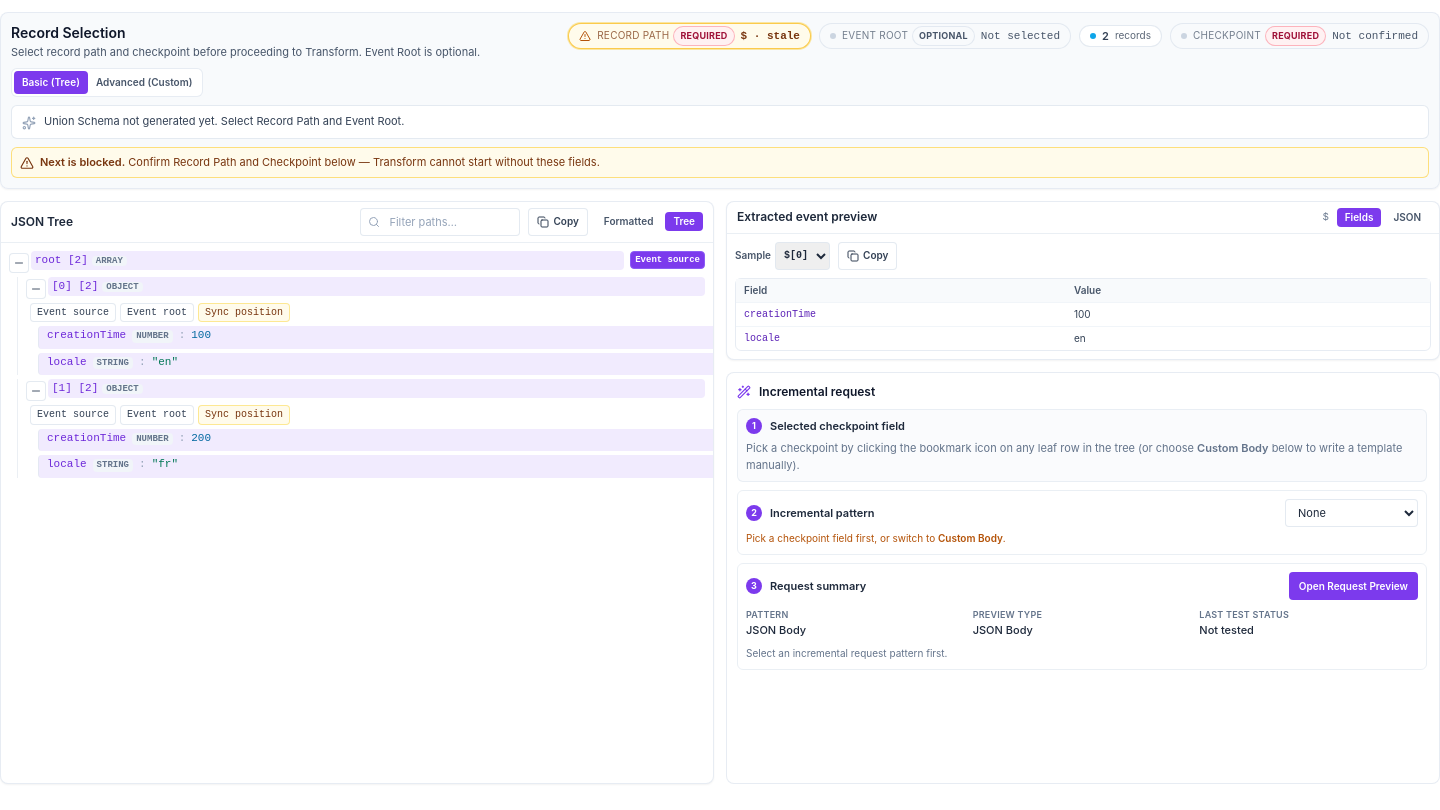
Scenario: RecordSelectionWorkspace › shows JSON tree and formatted response panels
Expected: the element with test id "wizard-record-selection-json-tree" is shown, top-left (0, 201), bottom-right (714, 784)
Click the button "Formatted": (629, 222) top-left (596, 212), bottom-right (661, 231)
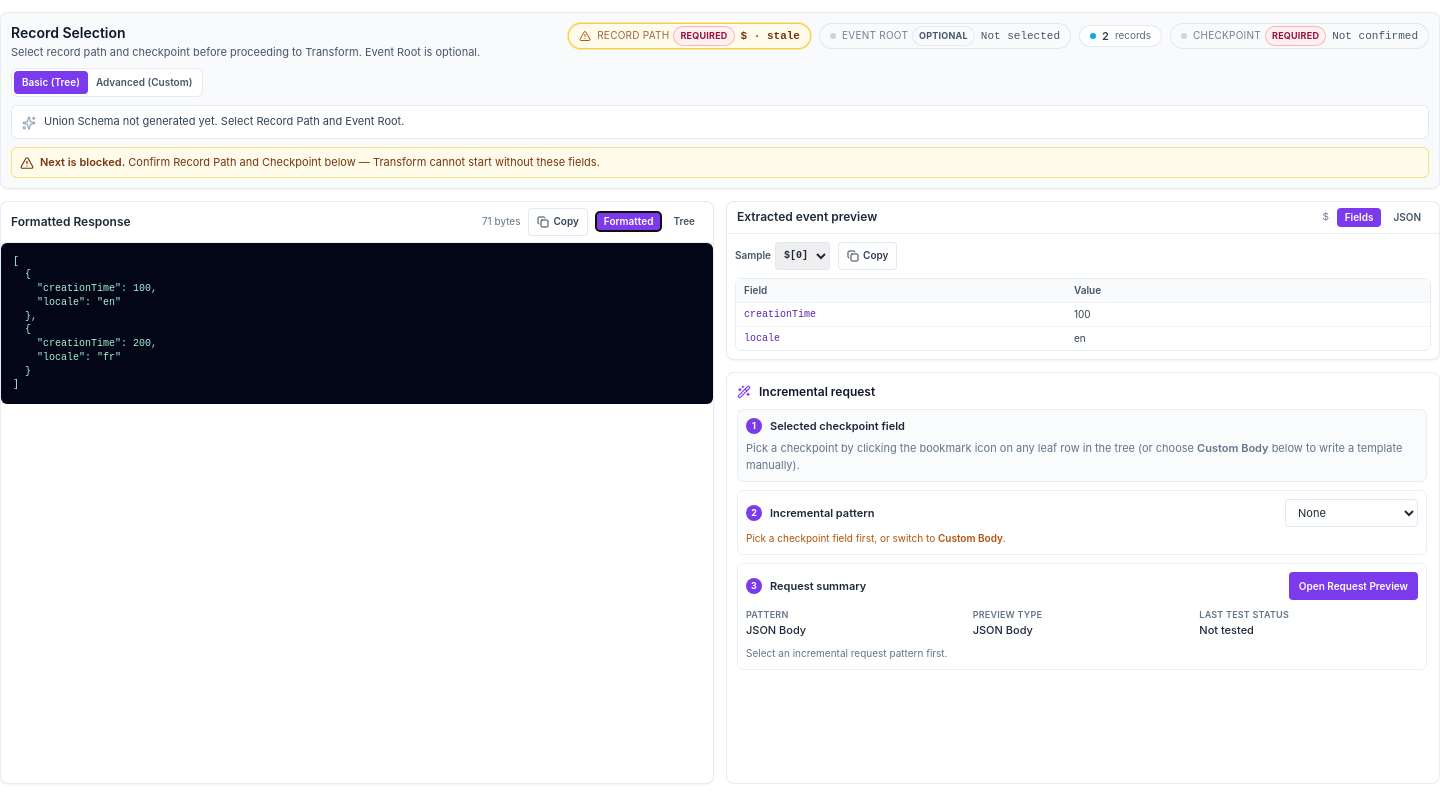
Expected: the element with test id "wizard-record-selection-formatted" is shown, top-left (0, 201), bottom-right (714, 784)
